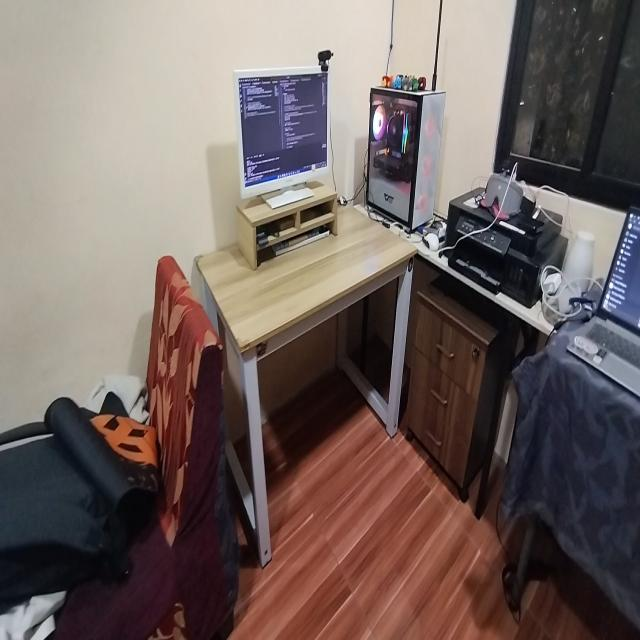table: (218, 203, 418, 513)
